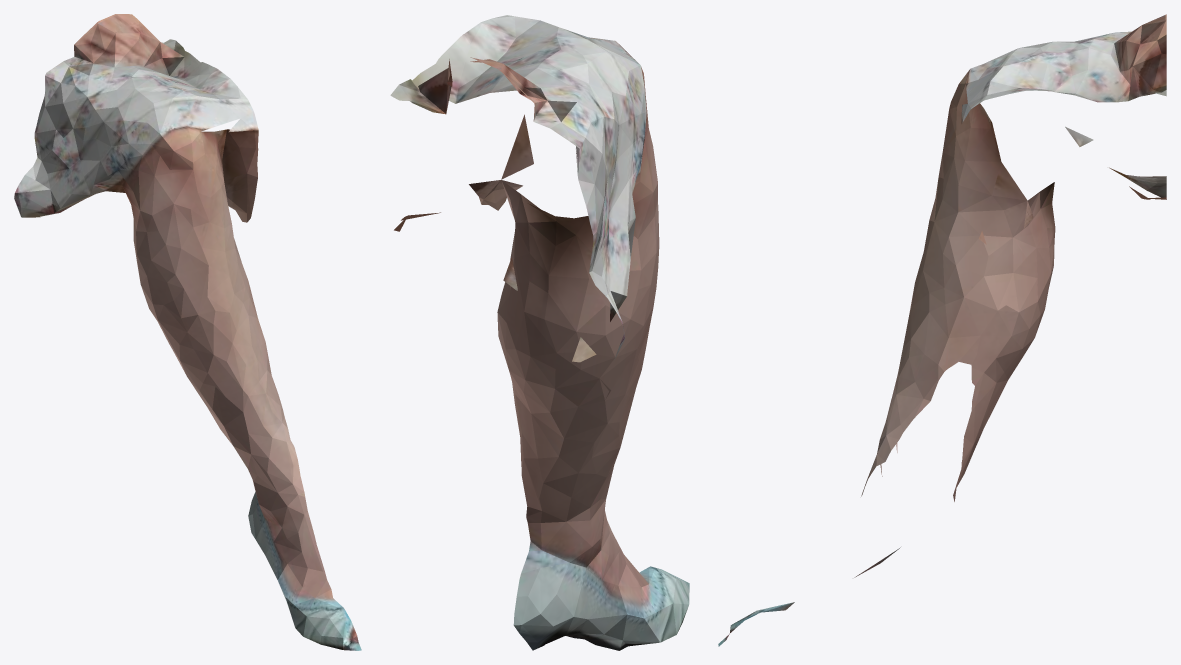
The picture shows the model from 3 angles, left to right: view 1: azimuth 30°, elevation 25°; view 2: azimuth 150°, elevation 25°; view 3: azimuth 270°, elevation 25°; orthographic projection. The views are drawn at different scales.
Bounding box in the file's own units: 180 × 565 × 383.
Materials: 1 (1 with a texture image).
